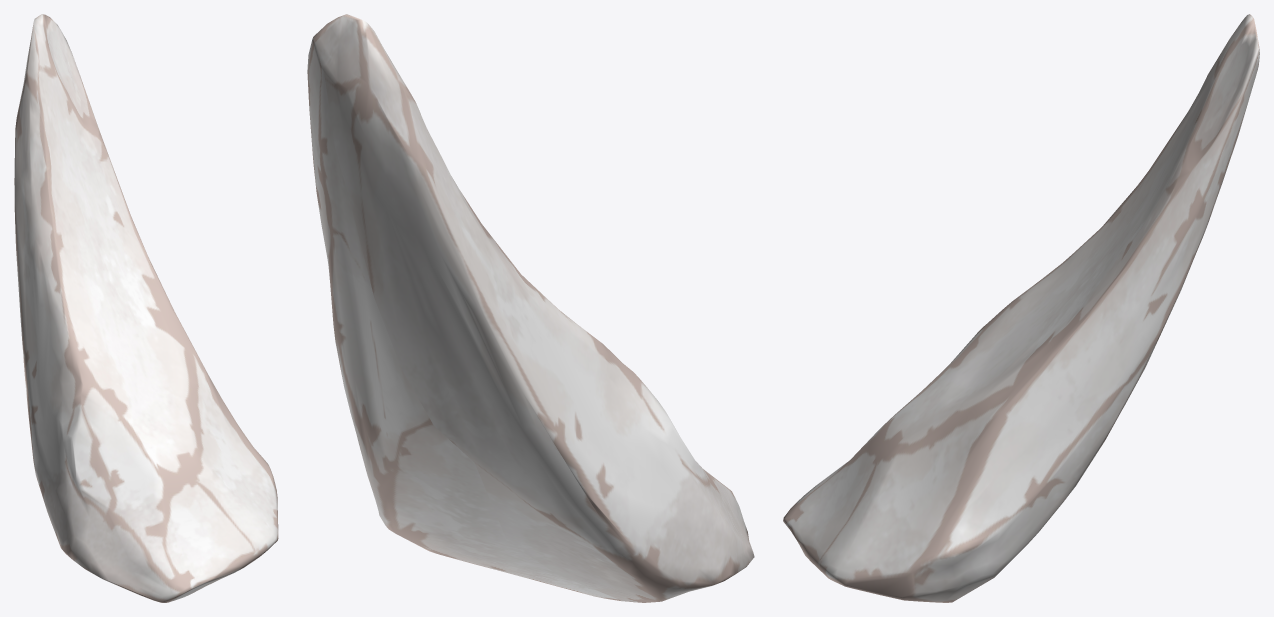
File: Rock_3.FBX
The picture shows the model from 3 angles, left to right: view 1: azimuth 30°, elevation 25°; view 2: azimuth 150°, elevation 25°; view 3: azimuth 270°, elevation 25°; orthographic projection. The views are drawn at different scales.
Parts seen in each view (by area): view 1: Rock_3; view 2: Rock_3; view 3: Rock_3.
Part boxes in pixels (box(x1,y1,x2,y2)): Rock_3: box(14, 14, 278, 602); Rock_3: box(307, 14, 754, 602); Rock_3: box(783, 14, 1259, 602).
Bounding box in the file's own units: 70.57 × 150 × 113.
